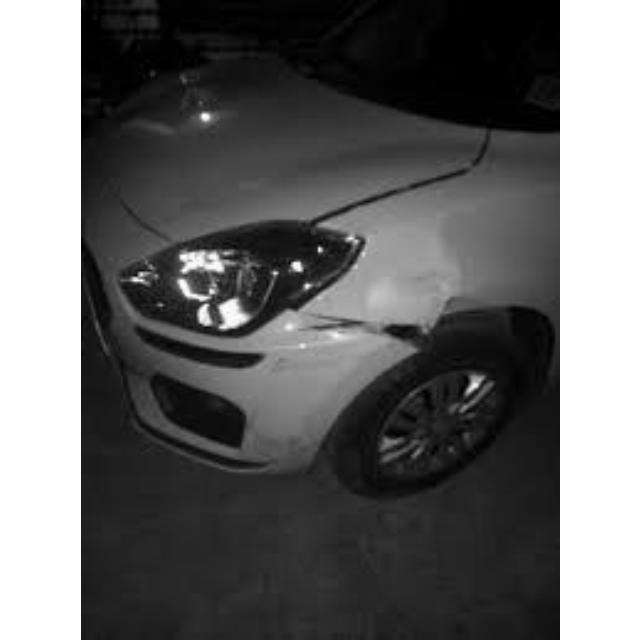front-bumper-dent: (234, 297, 448, 489)
